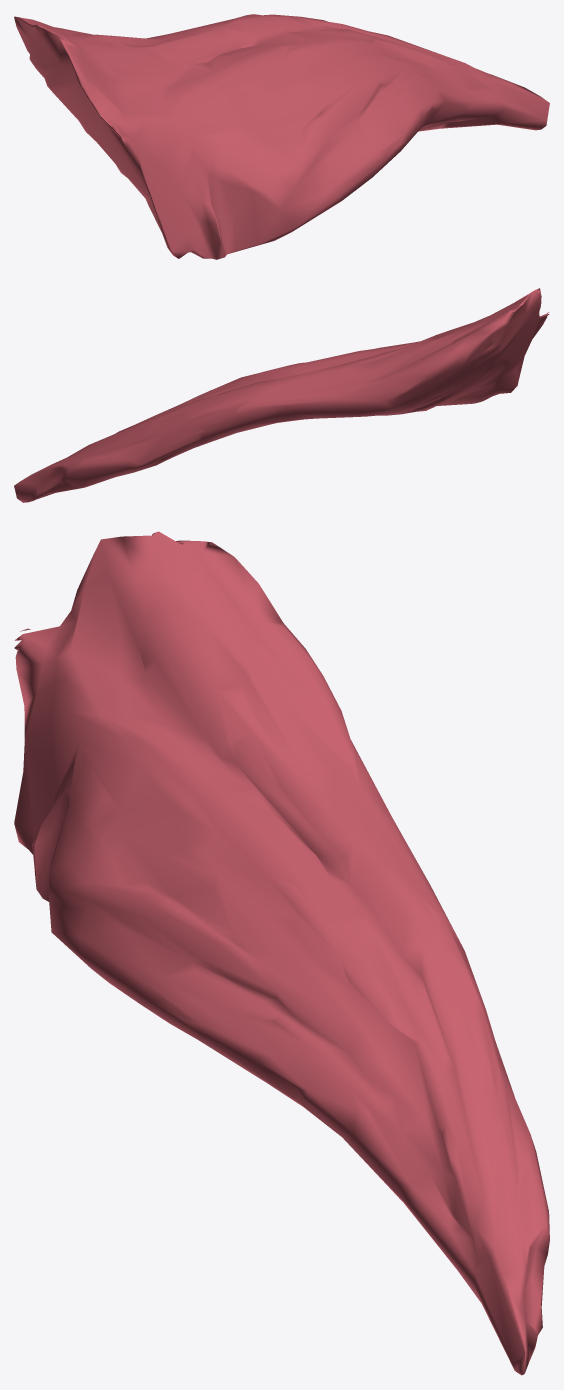
The picture shows the model from 3 angles, top to bottom: view 1: azimuth 30°, elevation 25°; view 2: azimuth 150°, elevation 25°; view 3: azimuth 270°, elevation 25°; orthographic projection. The views are drawn at different scales.
Visible parts, largest first — view 1: 左侧梨状肌; view 2: 左侧梨状肌; view 3: 左侧梨状肌.
Boxes of the visible parts, x1,y1,x2,y2 form: 左侧梨状肌: [14, 14, 549, 259]; 左侧梨状肌: [14, 288, 549, 502]; 左侧梨状肌: [14, 531, 549, 1375].
Size of the model in its own units: 0.162 by 0.0874 by 0.0929.
